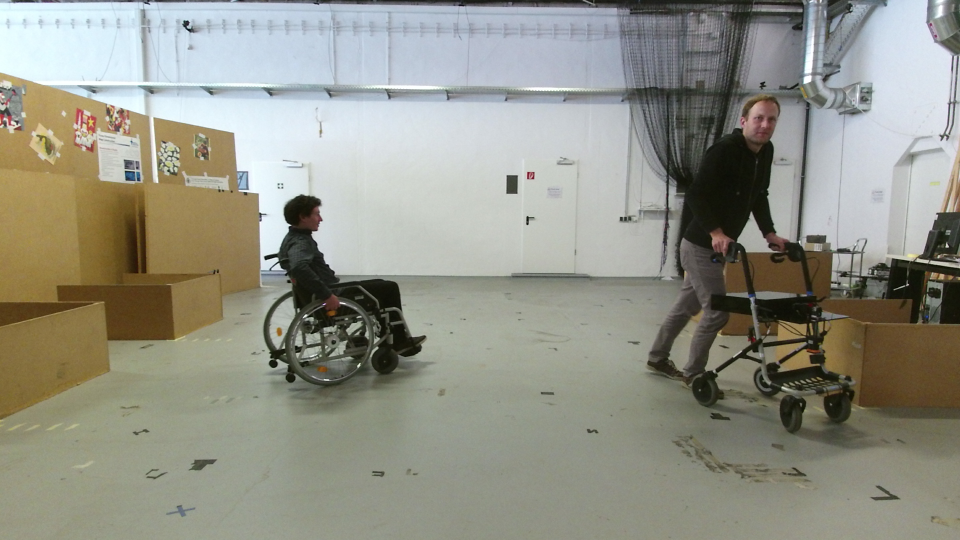wheelchair: (257, 187, 434, 393)
